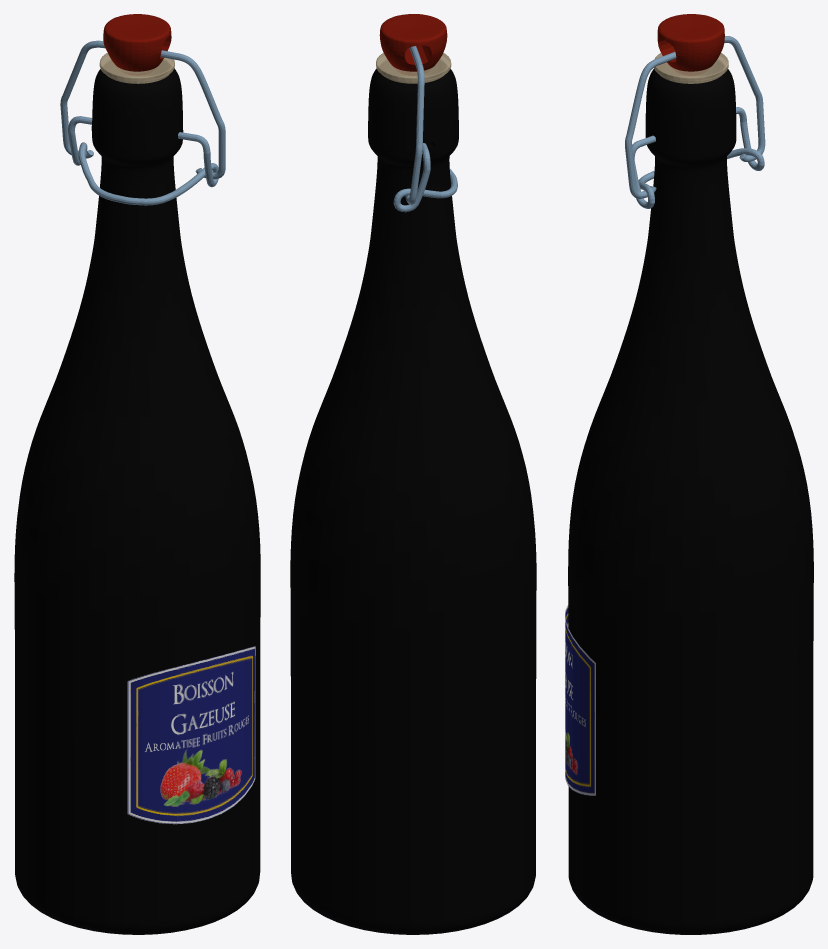
The model's file is Limonade.obj.
The picture shows the model from 3 angles, left to right: view 1: azimuth 30°, elevation 25°; view 2: azimuth 150°, elevation 25°; view 3: azimuth 270°, elevation 25°; orthographic projection.
Visible parts, largest first — view 1: Limonade; view 2: Limonade; view 3: Limonade.
Boxes of the visible parts, <box> form: Limonade: <box>14,14,260,934</box>; Limonade: <box>290,14,536,934</box>; Limonade: <box>565,14,813,934</box>.
Size of the model in its own units: 79.09 by 309 by 80.07.
